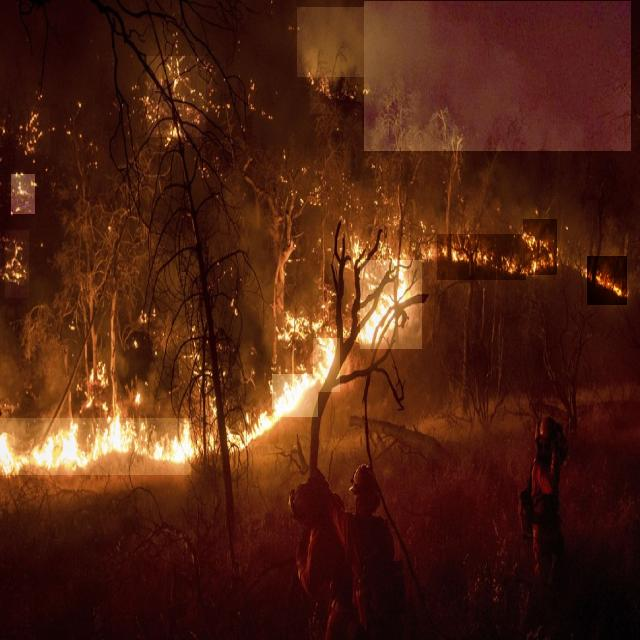Fire: (0, 418, 191, 475), (360, 260, 422, 349), (147, 56, 206, 137), (437, 234, 526, 280), (272, 374, 318, 417), (588, 256, 628, 305), (523, 219, 557, 275), (5, 230, 29, 298), (313, 338, 340, 392), (310, 62, 336, 114), (25, 107, 50, 155), (252, 409, 280, 444), (11, 174, 35, 214)
Smoke: (364, 2, 631, 152), (297, 7, 364, 77)
